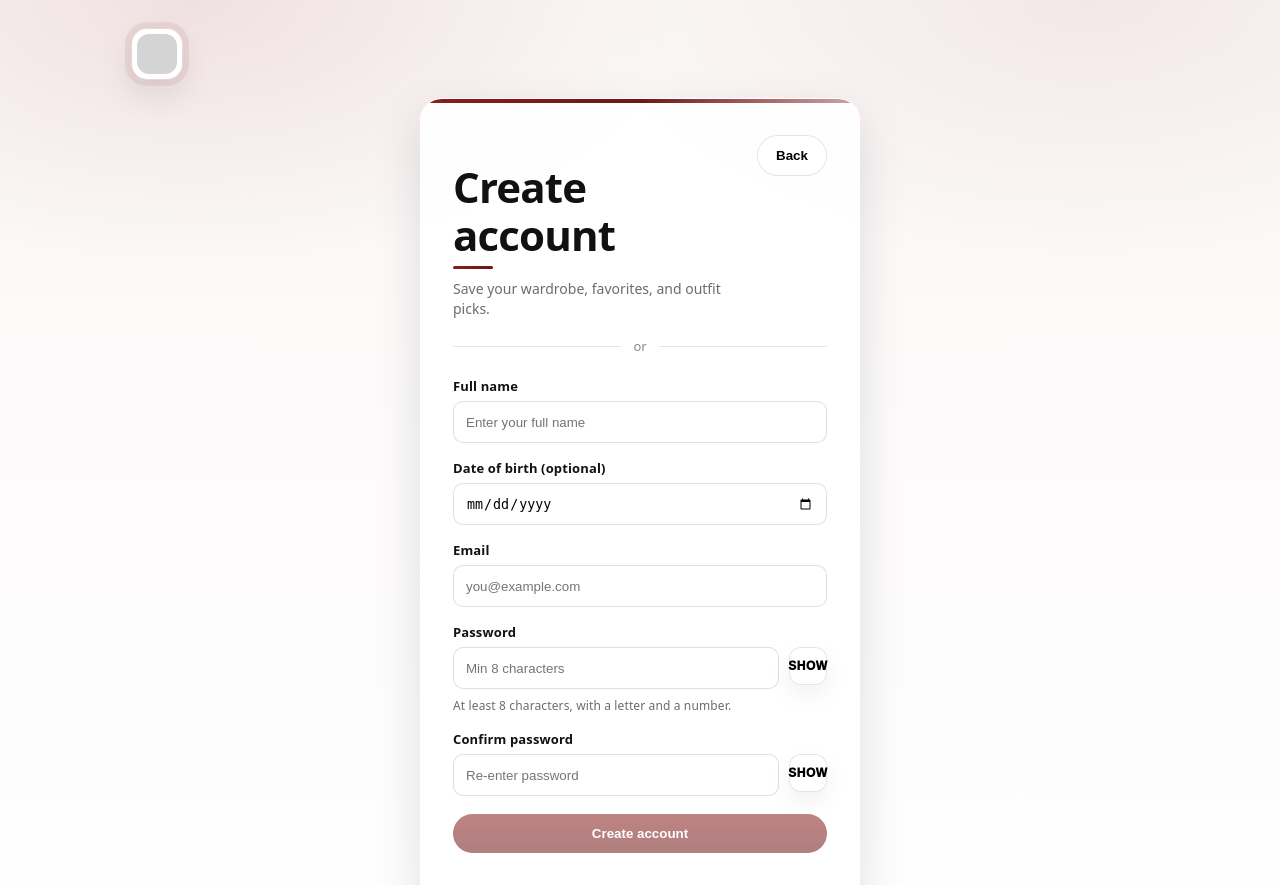
Signup › shows a clear error when the email is already registered and does not try to log in
Type "Fit GPT" into the field with placeholder "Enter your full name" at (640, 422), box x1=453 y1=401 x2=827 y2=443
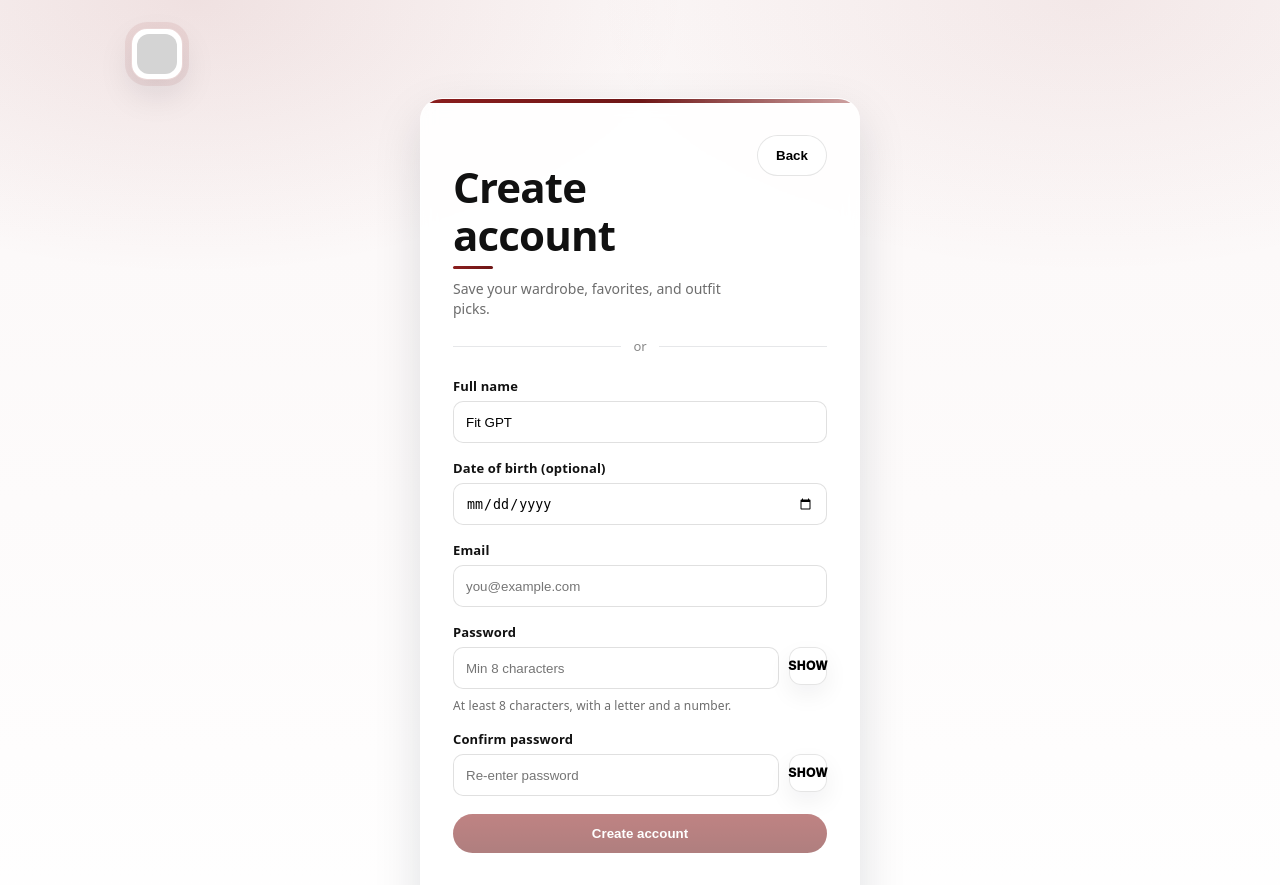
Type "fitgpt@example.com" into the field with placeholder "you@example.com" at (640, 586), box x1=453 y1=565 x2=827 y2=607
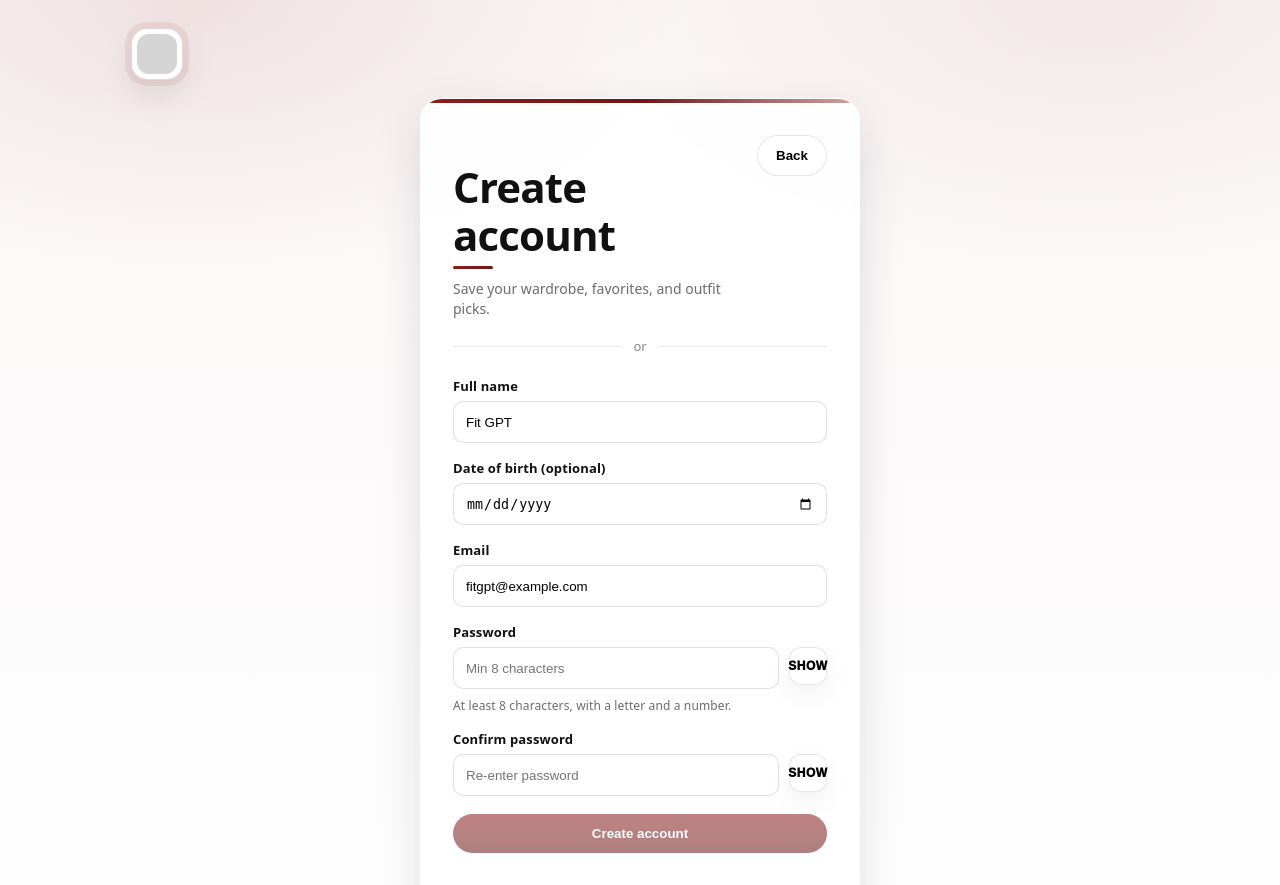
Type "Testpass9x" into the password field with placeholder "Min 8 characters" at (616, 668), box x1=453 y1=647 x2=779 y2=689
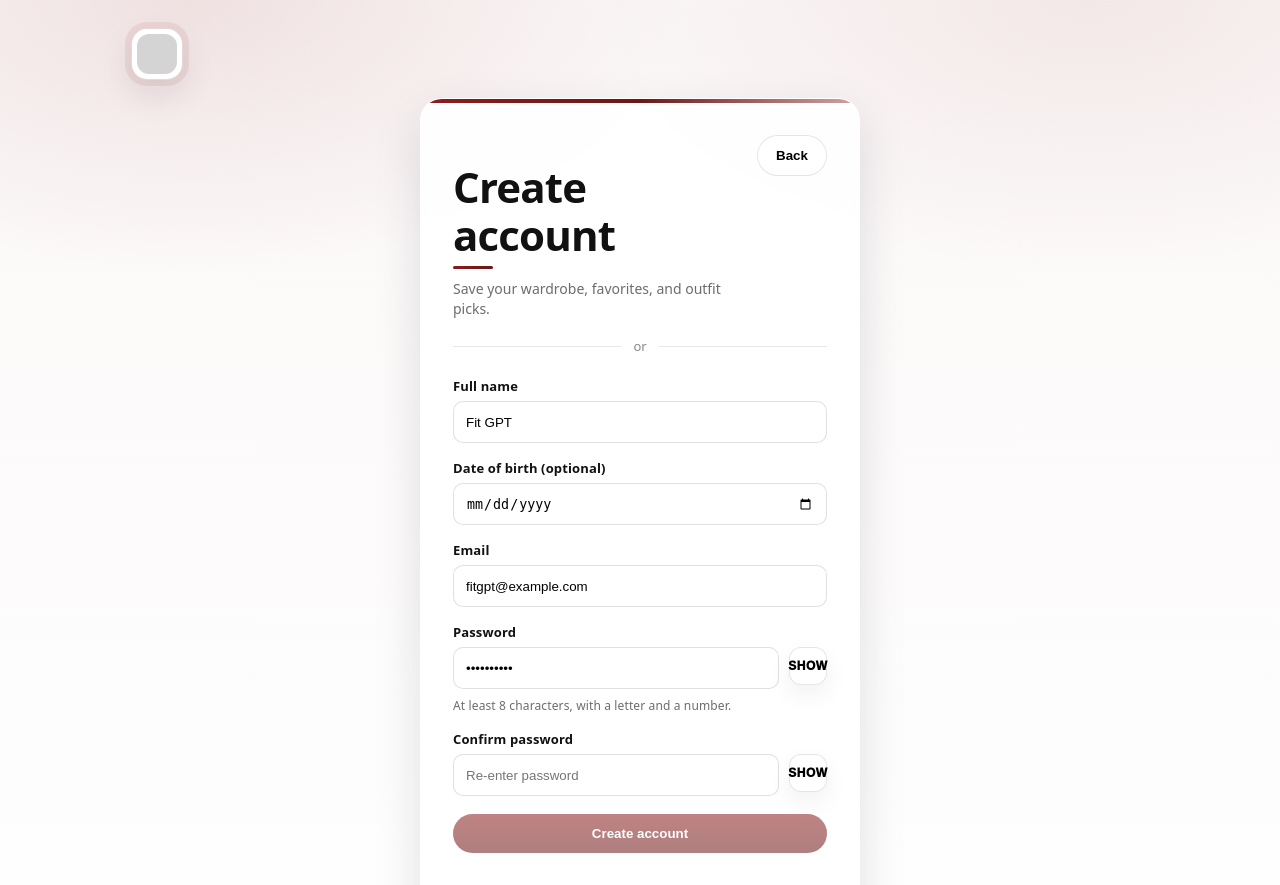
Type "Testpass9x" into the password field with placeholder "Re-enter password" at (616, 775), box x1=453 y1=754 x2=779 y2=796
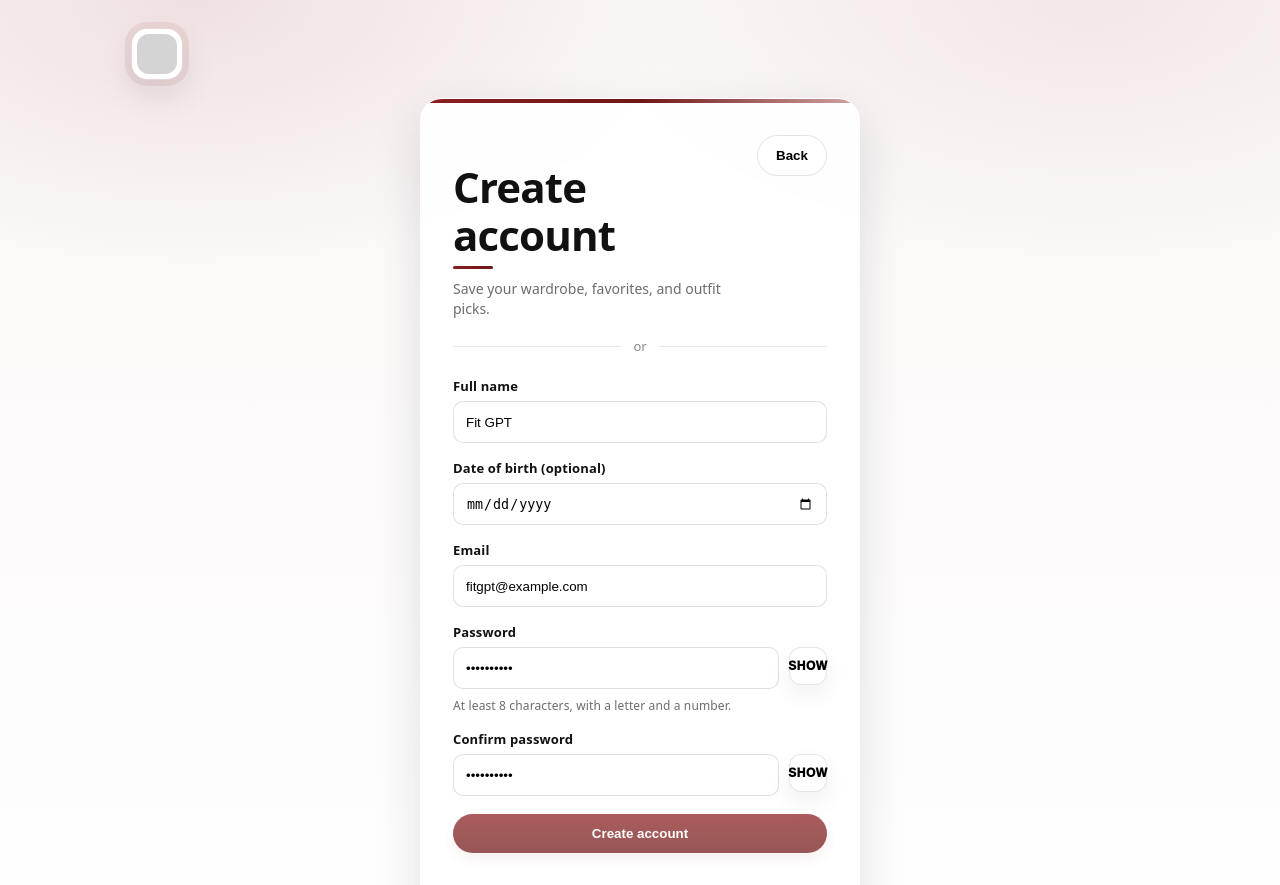
Click the button "Create account" at (640, 834), box x1=453 y1=814 x2=827 y2=853
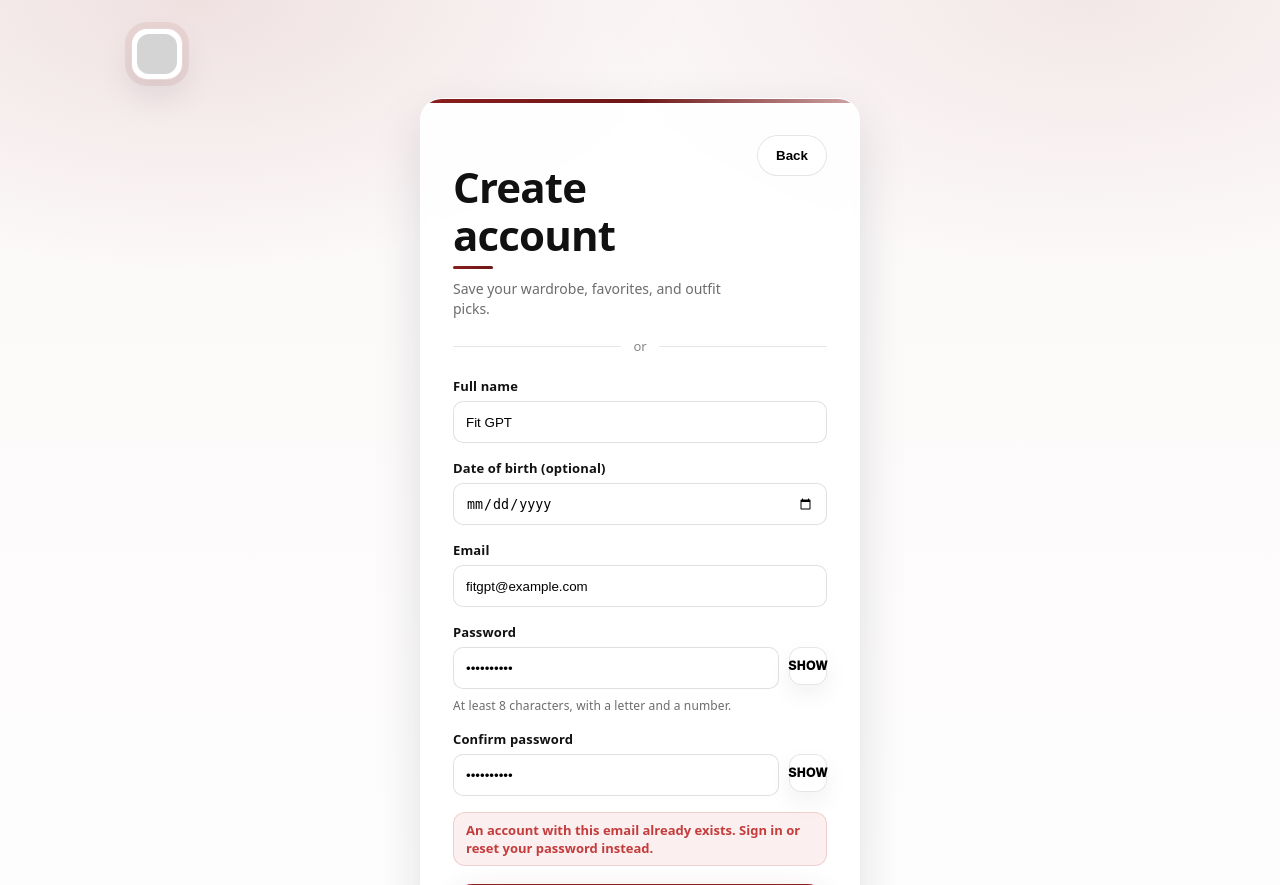
Now the text "An account with this email already exists. Sign in or reset your password instead." is shown, box x1=466 y1=821 x2=800 y2=857
